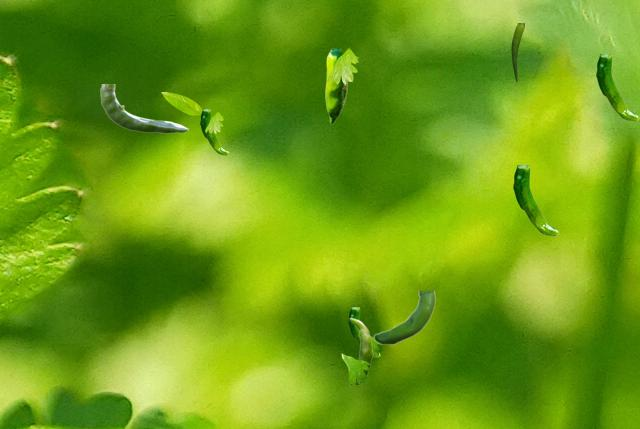green_chili: (100, 84, 187, 132), (373, 291, 434, 344), (513, 165, 558, 235), (596, 54, 638, 120), (325, 48, 346, 123), (348, 307, 379, 356), (349, 317, 372, 383), (200, 109, 228, 154), (511, 23, 523, 81)
